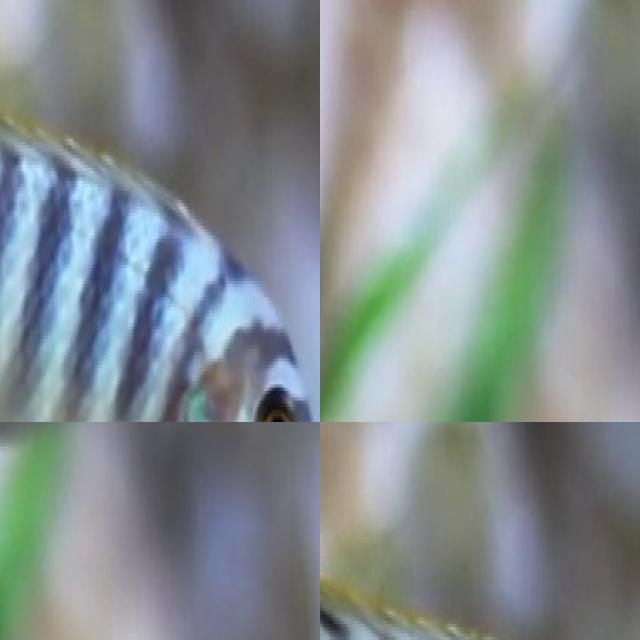fish: (0, 0, 320, 422), (320, 500, 640, 640)
